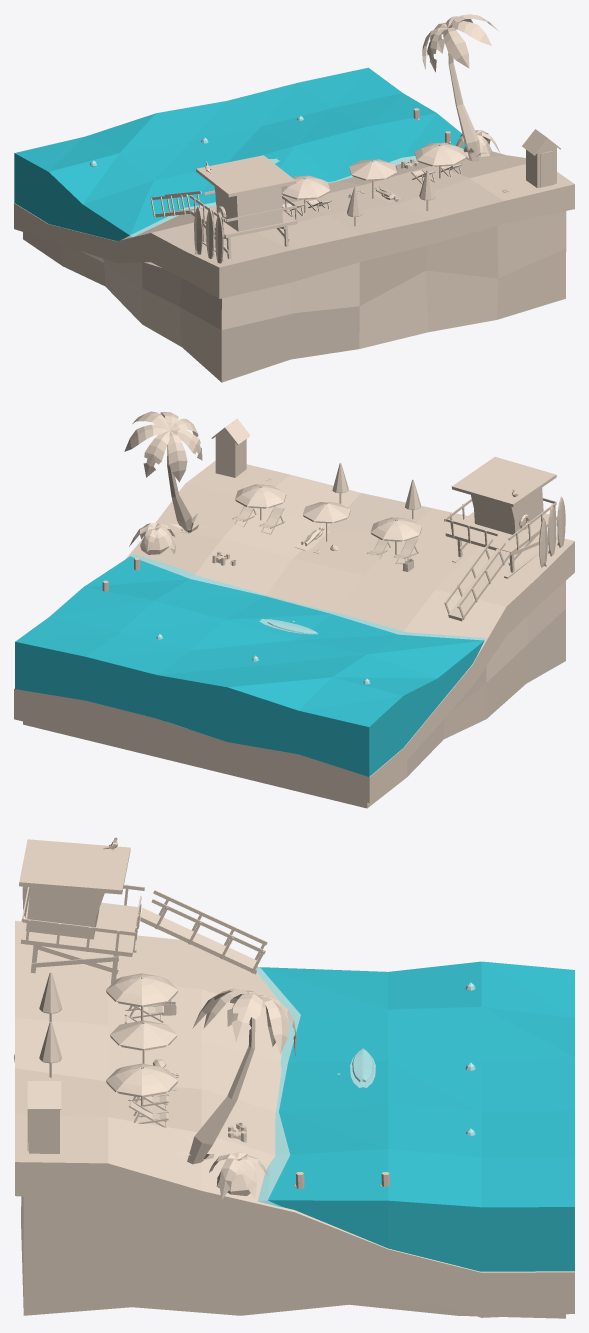
File: polyperfect-beach-base.fbx
3 views of the same model, one above another, from view 1: azimuth 30°, elevation 25°; view 2: azimuth 150°, elevation 25°; view 3: azimuth 270°, elevation 25° (orthographic). The views are drawn at different scales.
Visible parts, largest first — view 1: beach-world, beach-sea; view 2: beach-world, beach-sea; view 3: beach-world, beach-sea.
Part boxes in pixels (left/top/right/bottom): beach-world: left=14, top=14, right=574, bottom=382; beach-sea: left=14, top=67, right=465, bottom=240; beach-world: left=14, top=411, right=574, bottom=808; beach-sea: left=15, top=554, right=486, bottom=776; beach-world: left=14, top=837, right=574, bottom=1318; beach-sea: left=256, top=961, right=574, bottom=1271.
Size of the model in its own units: 19.97 by 12.17 by 19.64.
